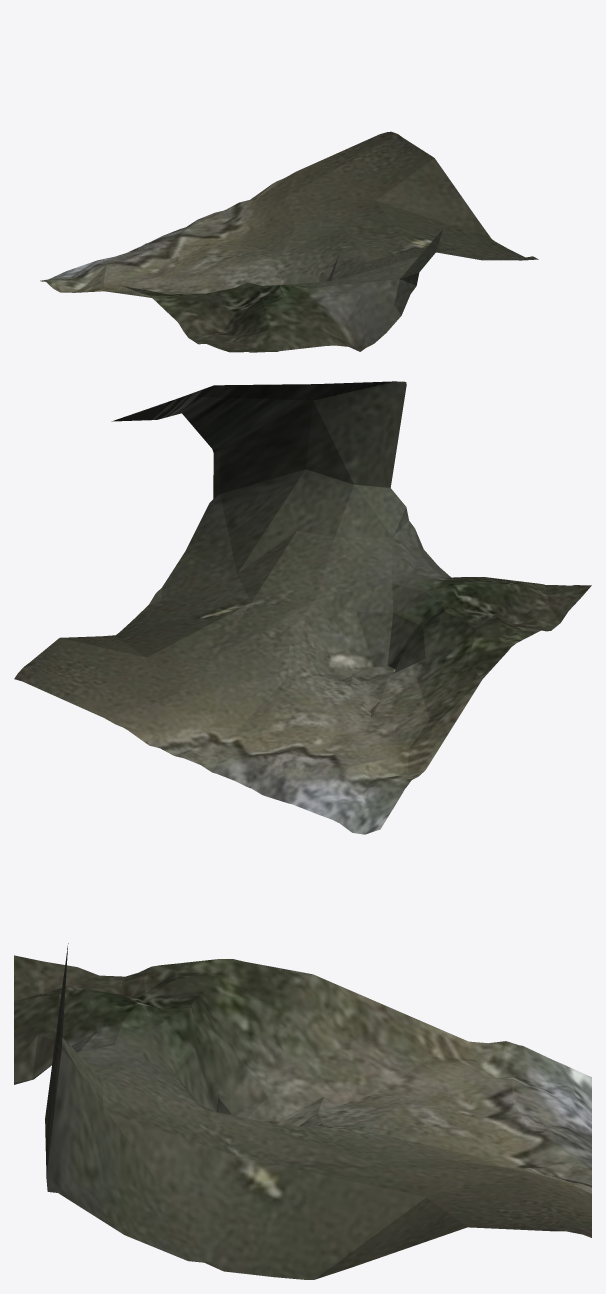
The picture shows the model from 3 angles, top to bottom: view 1: azimuth 30°, elevation 25°; view 2: azimuth 150°, elevation 25°; view 3: azimuth 270°, elevation 25°; orthographic projection. The views are drawn at different scales.
Bounding box in the file's own units: 5.9 × 3.96 × 5.9.
3 materials, 3 textured.
